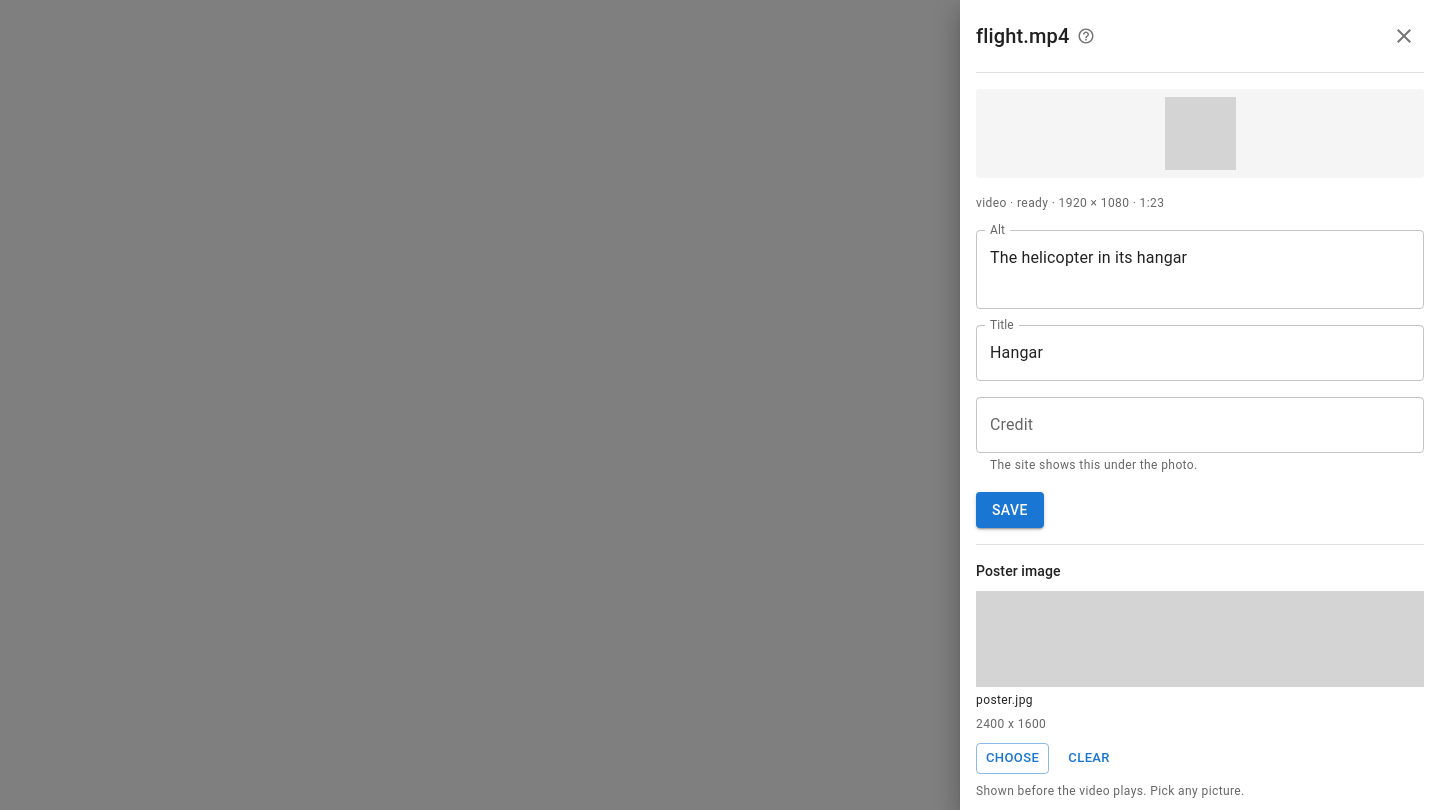
MediaDetailDrawer: video › shows a 409 inline under the section
Click the button "Clear" at (1089, 758), box x1=1057 y1=743 x2=1121 y2=774
(page scrolled)
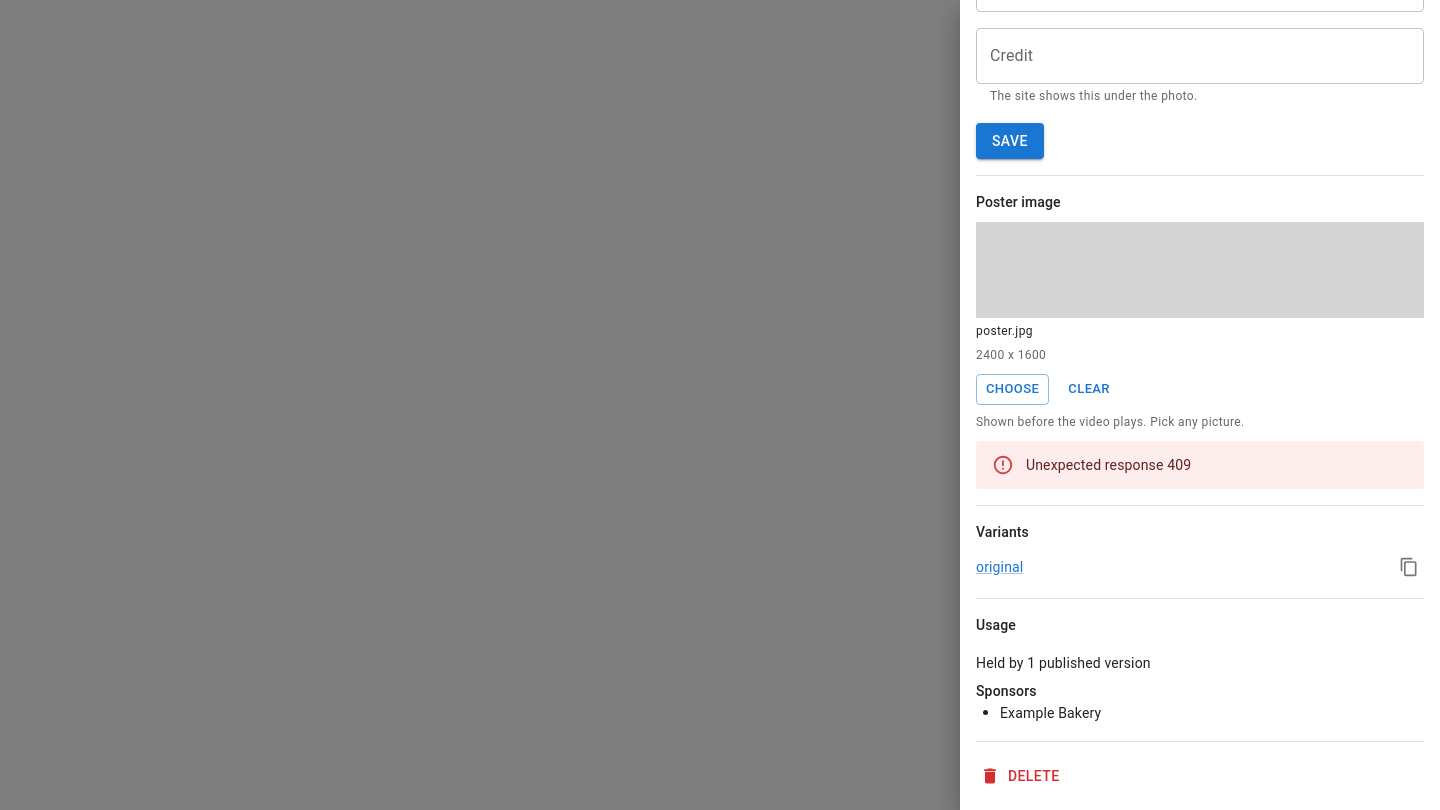
Expected: the message "Unexpected response 409" is shown, x1=976 y1=441 x2=1424 y2=489
